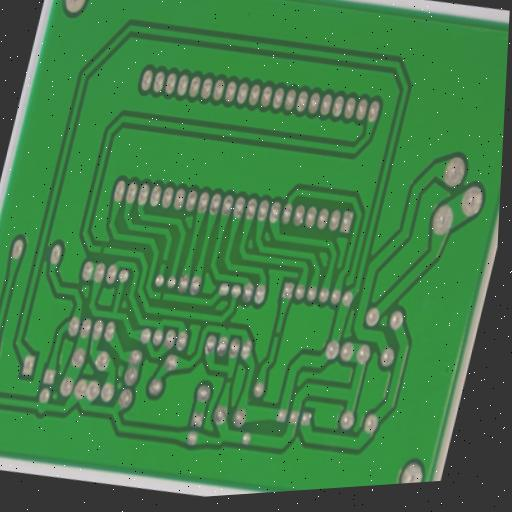open_circuit: (271, 326, 284, 344), (156, 290, 168, 304), (159, 255, 170, 270), (97, 243, 108, 258), (224, 374, 234, 388)
